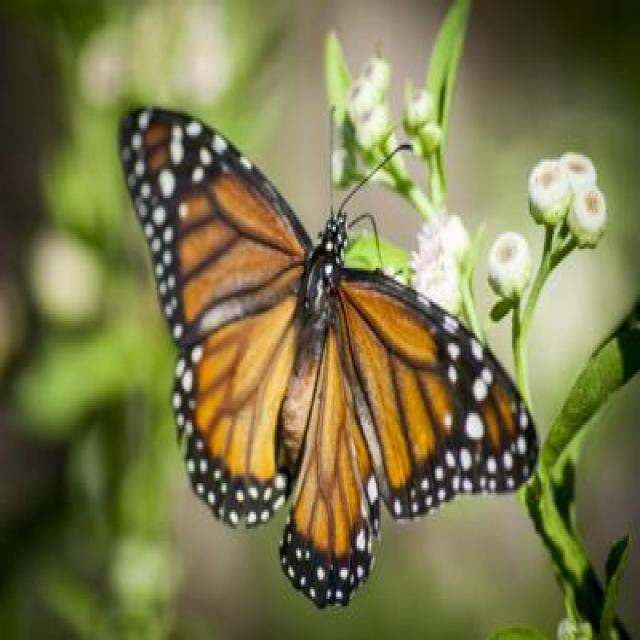antennae: (314, 100, 424, 223)
body: (279, 211, 349, 478)
insect: (118, 100, 540, 610)
wings: (298, 270, 538, 614), (118, 104, 307, 522)
